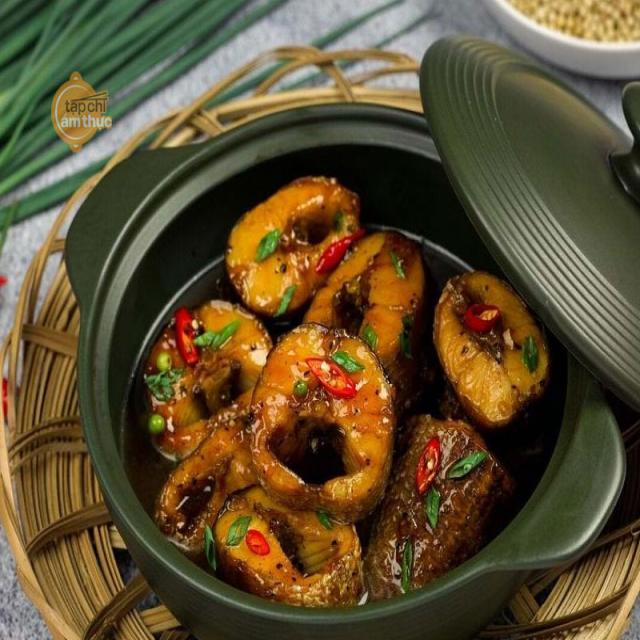ca kho: (144, 177, 550, 607)
